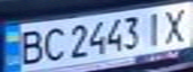2: (66, 20, 90, 60)
3: (121, 12, 145, 51)
4: (103, 15, 127, 53), (87, 17, 109, 56)
B: (12, 27, 48, 66)
C: (36, 25, 69, 63)
I: (139, 9, 169, 46)
X: (157, 5, 193, 44)
